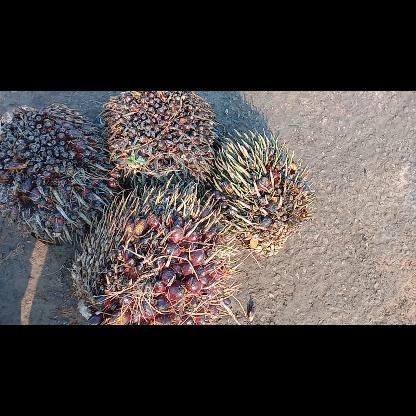TBS abnormal: (0, 100, 123, 251), (204, 124, 320, 258), (97, 92, 220, 190)
TBS masak: (68, 170, 242, 324)
